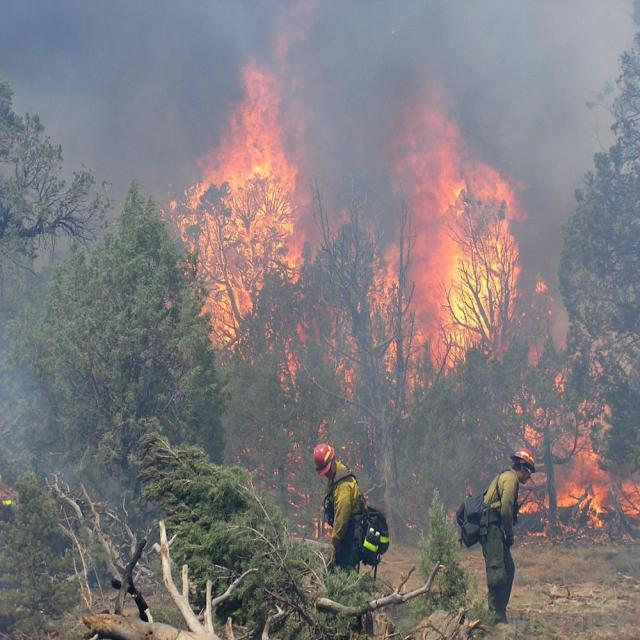Fire: (181, 73, 507, 364), (516, 401, 640, 531)
Smoke: (63, 19, 637, 231)
